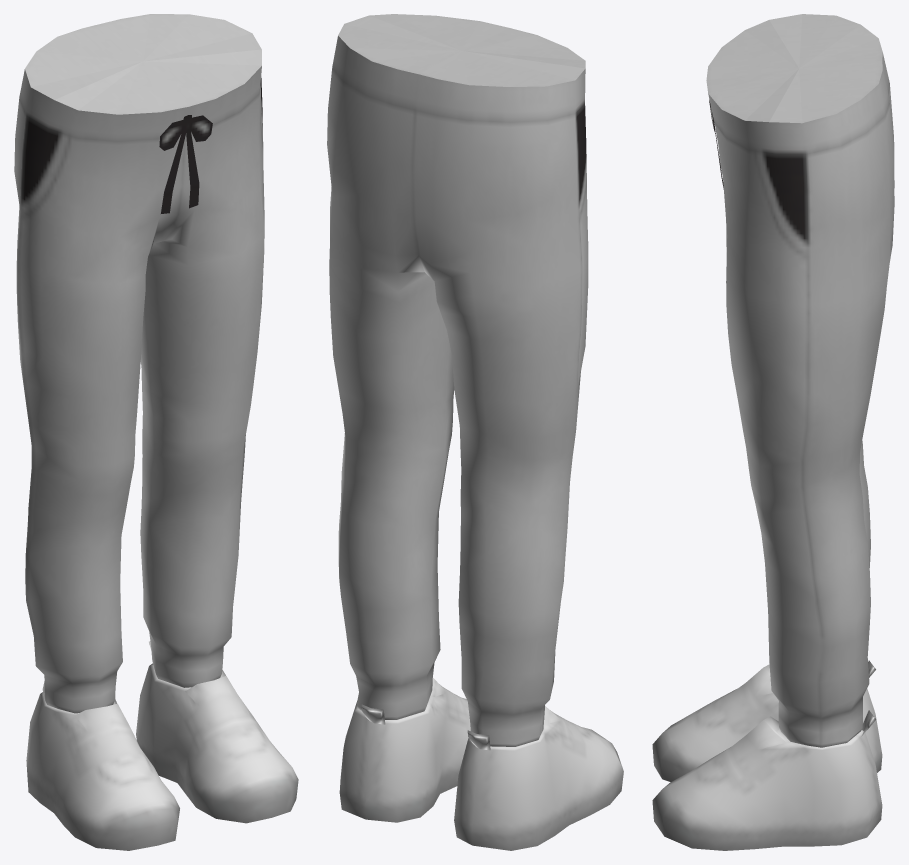
File: tr0720_00_lwb00.gltf
3 views of the same model, side by side, from view 1: azimuth 30°, elevation 25°; view 2: azimuth 150°, elevation 25°; view 3: azimuth 270°, elevation 25° (orthographic). The views are drawn at different scales.
Parts seen in each view (by area): view 1: lwb00_lowerbody_mesh_shape:lowerbody00, lwb00_shoes_mesh_shape:lowerbody00; view 2: lwb00_lowerbody_mesh_shape:lowerbody00, lwb00_shoes_mesh_shape:lowerbody00; view 3: lwb00_lowerbody_mesh_shape:lowerbody00, lwb00_shoes_mesh_shape:lowerbody00.
Boxes of the visible parts, box(x1,y1,x2,y2) form: lwb00_lowerbody_mesh_shape:lowerbody00: box(14, 14, 264, 713); lwb00_shoes_mesh_shape:lowerbody00: box(26, 641, 298, 850); lwb00_lowerbody_mesh_shape:lowerbody00: box(327, 14, 588, 746); lwb00_shoes_mesh_shape:lowerbody00: box(339, 678, 623, 850); lwb00_lowerbody_mesh_shape:lowerbody00: box(706, 14, 894, 747); lwb00_shoes_mesh_shape:lowerbody00: box(652, 660, 882, 850).
Size of what is drawn, in the model's own units: 0.3374 by 0.9787 by 0.2908.
Materials: 1 (1 with a texture image).
